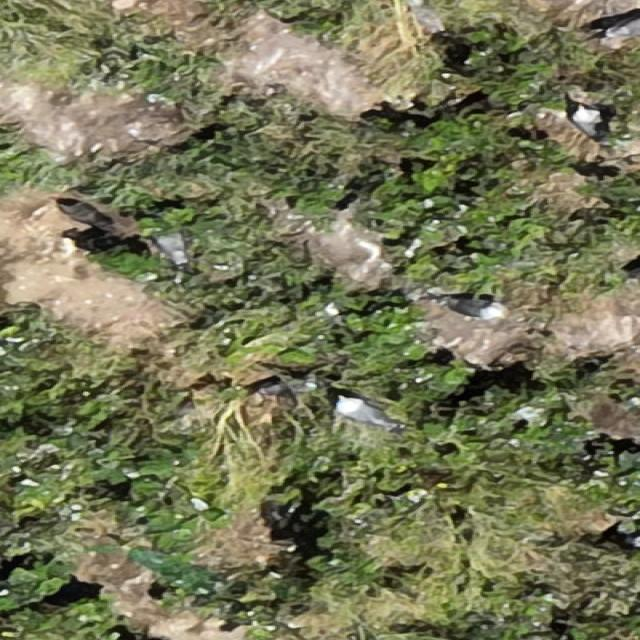umineko: (341, 397, 398, 428), (440, 293, 506, 318), (571, 106, 610, 140), (608, 18, 640, 39)
